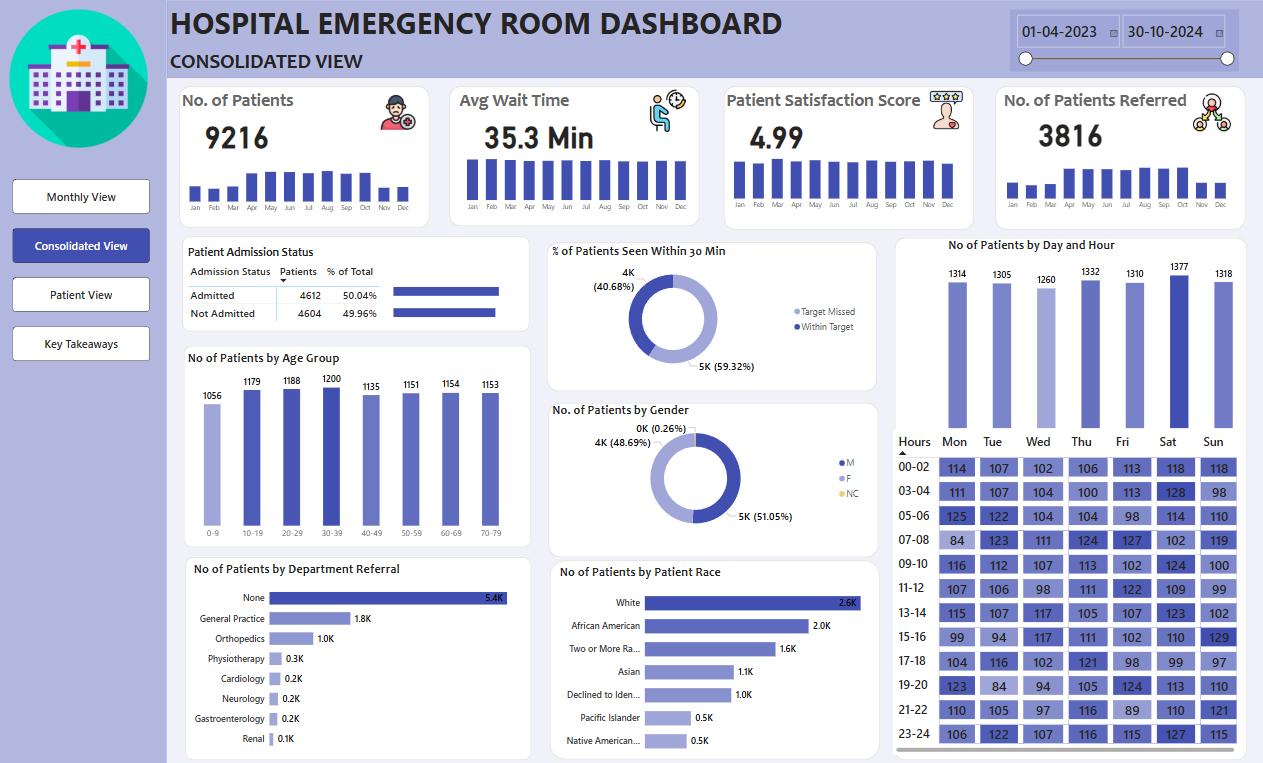

The dashboard page shown, as its layout file describes it:
{"tool":"powerbi","page":{"name":"Consolidated View","canvas":[2300,1400],"ordinal":1},"visuals":[{"type":"shape","box":[332.3,158.1,454.8,258.1],"z":0},{"type":"shape","box":[0,0,309.1,1400],"z":1000},{"type":"shape","box":[309.4,3.1,1991,140.6],"z":2000},{"type":"textbox","box":[309.1,0,1657.6,115.2],"z":3000},{"type":"card","fields":{"Values":["Hospital ER_Data.No of Patients"]},"box":[360.6,201.5,148.5,84.8],"z":4000},{"type":"textbox","box":[309.4,84.4,478.1,59.4],"z":5000},{"type":"slicer","fields":{"Values":["Date Table.Date"]},"box":[1840.6,18.8,415.6,112.5],"z":6000},{"type":"textbox","box":[331.4,157.1,302.9,74.3],"z":7000},{"type":"columnChart","fields":{"Y":["Hospital ER_Data.No of Patients"],"Category":["Date Table.Month Name"]},"box":[331.4,271.4,435,125],"z":8000},{"type":"shape","box":[822.6,158.1,454.8,254.8],"z":9000},{"type":"card","fields":{"Values":["Hospital ER_Data.Avg Wait Time"]},"box":[866.7,201.5,233.3,84.8],"z":10000},{"type":"textbox","box":[834.3,157.1,302.9,60],"z":11000},{"type":"columnChart","fields":{"Y":["Avg(Hospital ER_Data.Patient Waittime)"],"Category":["Date Table.Month Name"]},"box":[834.3,268.6,435,125],"z":12000},{"type":"shape","box":[1319.4,158.1,454.8,261.3],"z":13000},{"type":"textbox","box":[1320,157.1,434.3,94.3],"z":14000},{"type":"columnChart","fields":{"Y":["Hospital ER_Data.Satisfaction Score"],"Category":["Date Table.Month Name"]},"box":[1320,265.7,435,125],"z":15000},{"type":"shape","box":[1812.9,158.1,454.8,261.3],"z":16000},{"type":"card","fields":{"Values":["Hospital ER_Data.No of Patients Referred"]},"box":[1875.7,197.9,148.5,84.8],"z":17000},{"type":"textbox","box":[1822.9,157.1,434.3,88.6],"z":18000},{"type":"columnChart","fields":{"Y":["Hospital ER_Data.No of Patients Referred"],"Category":["Date Table.Month Name"]},"box":[1814.3,265.7,435,125],"z":19000},{"type":"shape","box":[338.1,431,631,173.8],"z":20000},{"type":"card","fields":{"Values":["Hospital ER_Data.Satisfaction Score"]},"box":[1342.4,200,148.5,84.8],"z":21000},{"type":"pivotTable","title":"Patient Admission Status","fields":{"Rows":["Hospital ER_Data.Admission Status"],"Values":["Hospital ER_Data.No of Patients1","Hospital ER_Data.No of Patients"]},"box":[342.9,445.2,604.8,145.2],"z":22000},{"type":"barChart","fields":{"Category":["Hospital ER_Data.Admission Status"],"Y":["Hospital ER_Data.No of Patients Referred"]},"box":[716.7,490.5,207.1,114.3],"z":23000},{"type":"shape","box":[340.5,628.6,631,366.7],"z":24000},{"type":"clusteredColumnChart","fields":{"Category":["Hospital ER_Data.Age Group"],"Y":["Hospital ER_Data.No of Patients"]},"box":[342.9,635.7,604.8,352.4],"z":25000},{"type":"shape","box":[342.9,1011.9,628.6,369],"z":26000},{"type":"clusteredBarChart","fields":{"Category":["Hospital ER_Data.Department Referral"],"Y":["Hospital ER_Data.No of Patients"]},"box":[354.3,1020,605.7,354.3],"z":27000},{"type":"shape","box":[998.8,441.1,600,271.4],"z":28000},{"type":"donutChart","title":"% of Patients Seen Within 30 Min","fields":{"Category":["Hospital ER_Data.WaitTime Status"],"Y":["Hospital ER_Data.No of Patients"]},"box":[1002.9,442.9,568.6,245.7],"z":29000},{"type":"shape","box":[1000,731.2,600,281.2],"z":30000},{"type":"donutChart","title":"No. of Patients by Gender","fields":{"Category":["Hospital ER_Data.Patient Gender"],"Y":["Hospital ER_Data.No of Patients"]},"box":[1003.1,731.2,575,246.9],"z":31000},{"type":"shape","box":[1003.1,1018.8,600,362.5],"z":32000},{"type":"clusteredBarChart","fields":{"Y":["Hospital ER_Data.No of Patients"],"Category":["Hospital ER_Data.Patient Race"]},"box":[1018.8,1025,584.4,356.2],"z":33000},{"type":"shape","box":[1628.6,431.4,640,948.6],"z":34000},{"type":"pivotTable","fields":{"Rows":["Hospital ER_Data.WaitTime Interval"],"Columns":["Date Table.Day Name"],"Values":["Hospital ER_Data.No of Patients"]},"box":[1628.1,781.2,628.1,590.6],"z":35000},{"type":"columnChart","title":"No of Patients by Day and Hour","fields":{"Category":["Date Table.Day Name"],"Y":["Hospital ER_Data.No of Patients"]},"box":[1722.9,431.4,528.6,351.4],"z":36000},{"type":"image","box":[692.1,168.4,76.3,73.7],"z":37000},{"type":"image","box":[1678.9,160.5,89.5,81.6],"z":38000},{"type":"image","box":[1171.1,157.9,97.4,89.5],"z":39000},{"type":"image","box":[2139.5,165.8,134.2,78.9],"z":40000},{"type":"pageNavigator","box":[29.7,327.2,249.8,330.1],"z":42000},{"type":"image","box":[19,10.9,261.2,266.6],"z":42001}]}

Visuals, with their boxes in screenshot pixels (x1, y1, x2, y2), scaled from the page's 2300x1400 canvas onto the 1263x763 screenshot:
shape: 182/86/432/227
shape: 0/0/170/762
shape: 170/2/1262/78
textbox: 170/0/1080/63
card - Hospital ER_Data.No of Patients: 198/110/280/156
textbox: 170/46/432/78
slicer - Date Table.Date: 1011/10/1239/72
textbox: 182/86/348/126
columnChart - Hospital ER_Data.No of Patients x Date Table.Month Name: 182/148/421/216
shape: 452/86/701/225
card - Hospital ER_Data.Avg Wait Time: 476/110/604/156
textbox: 458/86/624/118
columnChart - Avg(Hospital ER_Data.Patient Waittime) x Date Table.Month Name: 458/146/697/215
shape: 725/86/974/229
textbox: 725/86/963/137
columnChart - Hospital ER_Data.Satisfaction Score x Date Table.Month Name: 725/145/964/213
shape: 996/86/1245/229
card - Hospital ER_Data.No of Patients Referred: 1030/108/1112/154
textbox: 1001/86/1239/134
columnChart - Hospital ER_Data.No of Patients Referred x Date Table.Month Name: 996/145/1235/213
shape: 186/235/532/330
card - Hospital ER_Data.Satisfaction Score: 737/109/819/155
"Patient Admission Status" pivotTable: 188/243/520/322
barChart - Hospital ER_Data.Admission Status x Hospital ER_Data.No of Patients Referred: 394/267/507/330
shape: 187/343/533/542
clusteredColumnChart - Hospital ER_Data.Age Group x Hospital ER_Data.No of Patients: 188/346/520/539
shape: 188/551/533/753
clusteredBarChart - Hospital ER_Data.Department Referral x Hospital ER_Data.No of Patients: 195/556/527/749
shape: 548/240/878/388
"% of Patients Seen Within 30 Min" donutChart: 551/241/863/375
shape: 549/399/879/552
"No. of Patients by Gender" donutChart: 551/399/867/533
shape: 551/555/880/753
clusteredBarChart - Hospital ER_Data.No of Patients x Hospital ER_Data.Patient Race: 559/559/880/753
shape: 894/235/1246/752
pivotTable - Hospital ER_Data.WaitTime Interval x Date Table.Day Name: 894/426/1239/748
"No of Patients by Day and Hour" columnChart: 946/235/1236/427
image: 380/92/422/132
image: 922/87/971/132
image: 643/86/697/135
image: 1175/90/1249/133
pageNavigator: 16/178/153/358
image: 10/6/154/151
